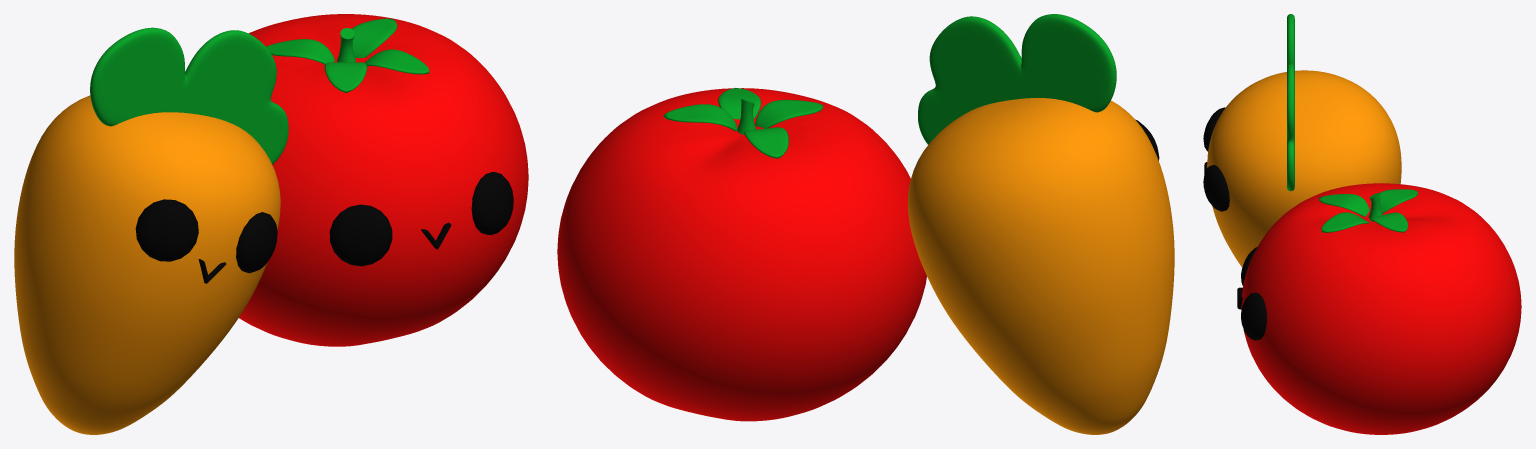
The model's file is vegetables.glb.
3 views of the same model, side by side, from view 1: azimuth 30°, elevation 25°; view 2: azimuth 150°, elevation 25°; view 3: azimuth 270°, elevation 25° (orthographic). The views are drawn at different scales.
Visible parts, largest first — view 1: TOMATO_red_0, CARROT_orange_0, CARROT_green_0, TOMATO_black_0, CARROT_black_0, TOMATO_green_0; view 2: TOMATO_red_0, CARROT_orange_0, CARROT_green_0, TOMATO_green_0; view 3: TOMATO_red_0, CARROT_orange_0, TOMATO_green_0, CARROT_green_0, TOMATO_black_0, CARROT_black_0.
Boxes of the visible parts, box(x1,y1,x2,y2) form: TOMATO_red_0: box(239, 14, 528, 346); CARROT_orange_0: box(14, 95, 280, 434); CARROT_green_0: box(90, 27, 288, 164); TOMATO_black_0: box(329, 172, 513, 266); CARROT_black_0: box(135, 199, 277, 283); TOMATO_green_0: box(266, 18, 429, 92); TOMATO_red_0: box(557, 88, 926, 421); CARROT_orange_0: box(908, 98, 1174, 434); CARROT_green_0: box(918, 14, 1116, 144); TOMATO_green_0: box(663, 88, 823, 158); TOMATO_red_0: box(1241, 183, 1521, 434); CARROT_orange_0: box(1207, 70, 1401, 267); TOMATO_green_0: box(1319, 189, 1417, 232); CARROT_green_0: box(1287, 14, 1294, 191); TOMATO_black_0: box(1237, 247, 1266, 340); CARROT_black_0: box(1203, 107, 1229, 211).
Size of the model in its own units: 56.55 by 40.93 by 39.34.
